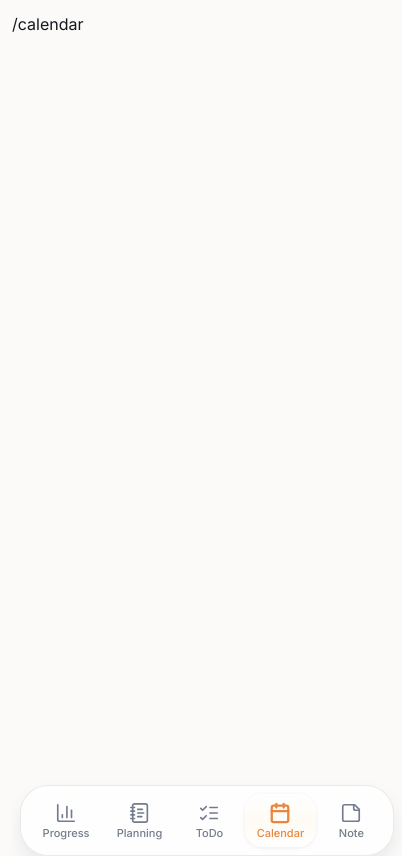
BottomNav › returns Planning to the last planning route in this session
The image size is (402, 856).
Step 1. Click the button "Planning" → x=140, y=820, box left=105, top=794, right=174, bottom=847
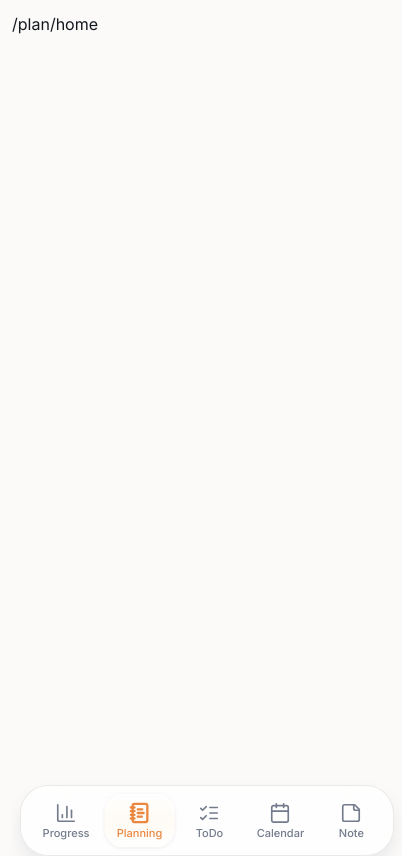
Check: the text with test id "loc" reads "/plan/home", box left=12, top=14, right=98, bottom=34
